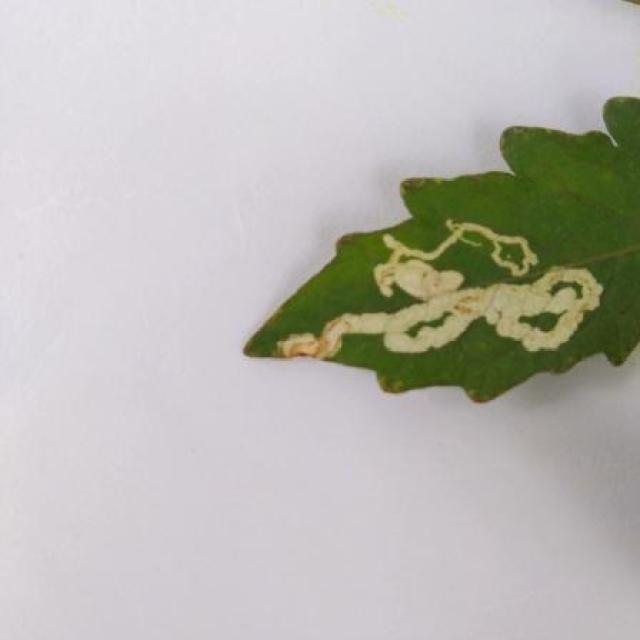Leaf Miner: (242, 94, 639, 406)
